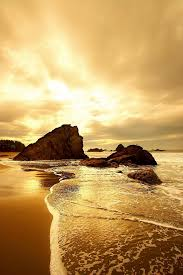beach: (9, 148, 179, 275)
sky: (4, 2, 183, 140)
stone: (19, 124, 160, 167)
